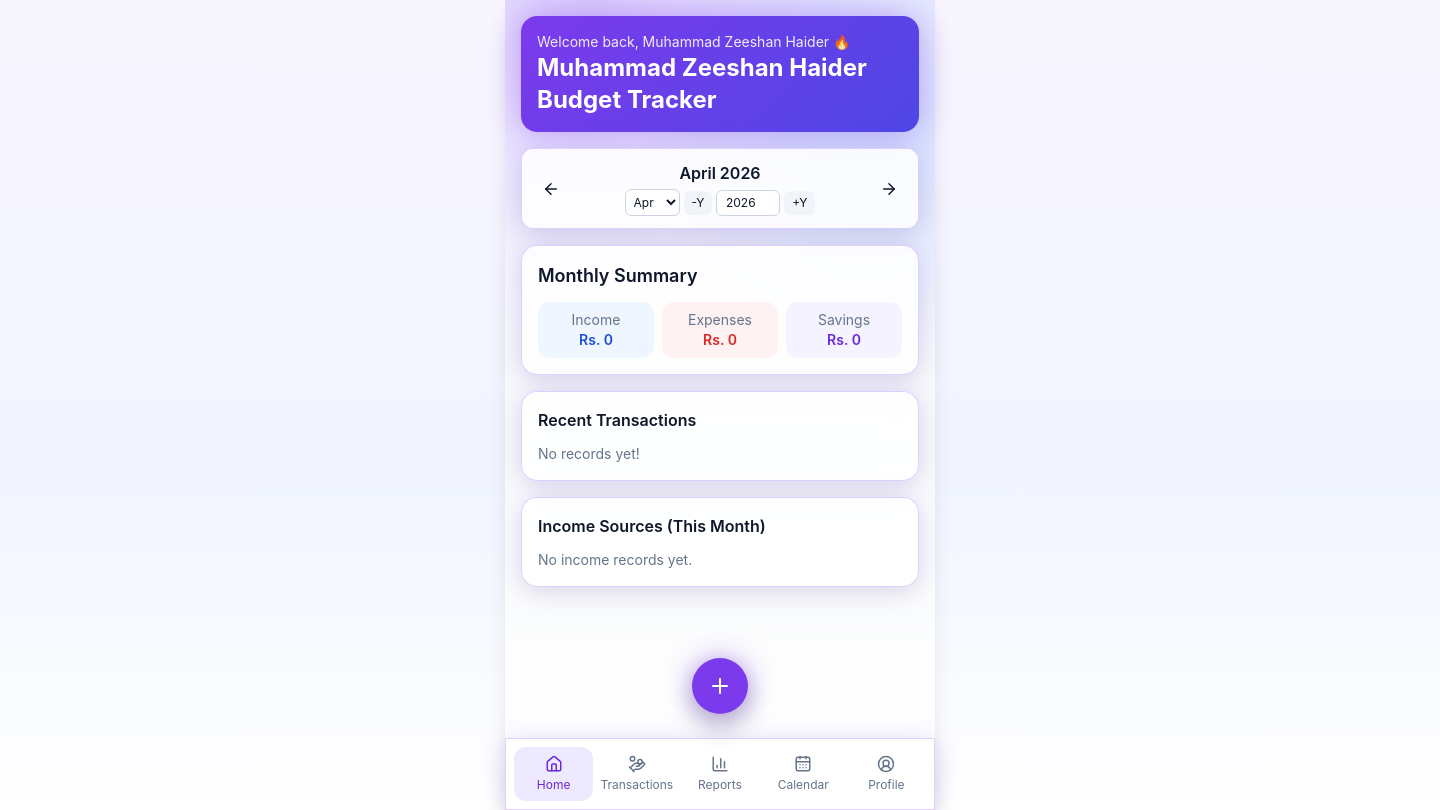
Scenario: Family Budget Tracker › adds a new income transaction from modal
Click the button named "Add transaction" at (720, 686), box [692,658,748,714]
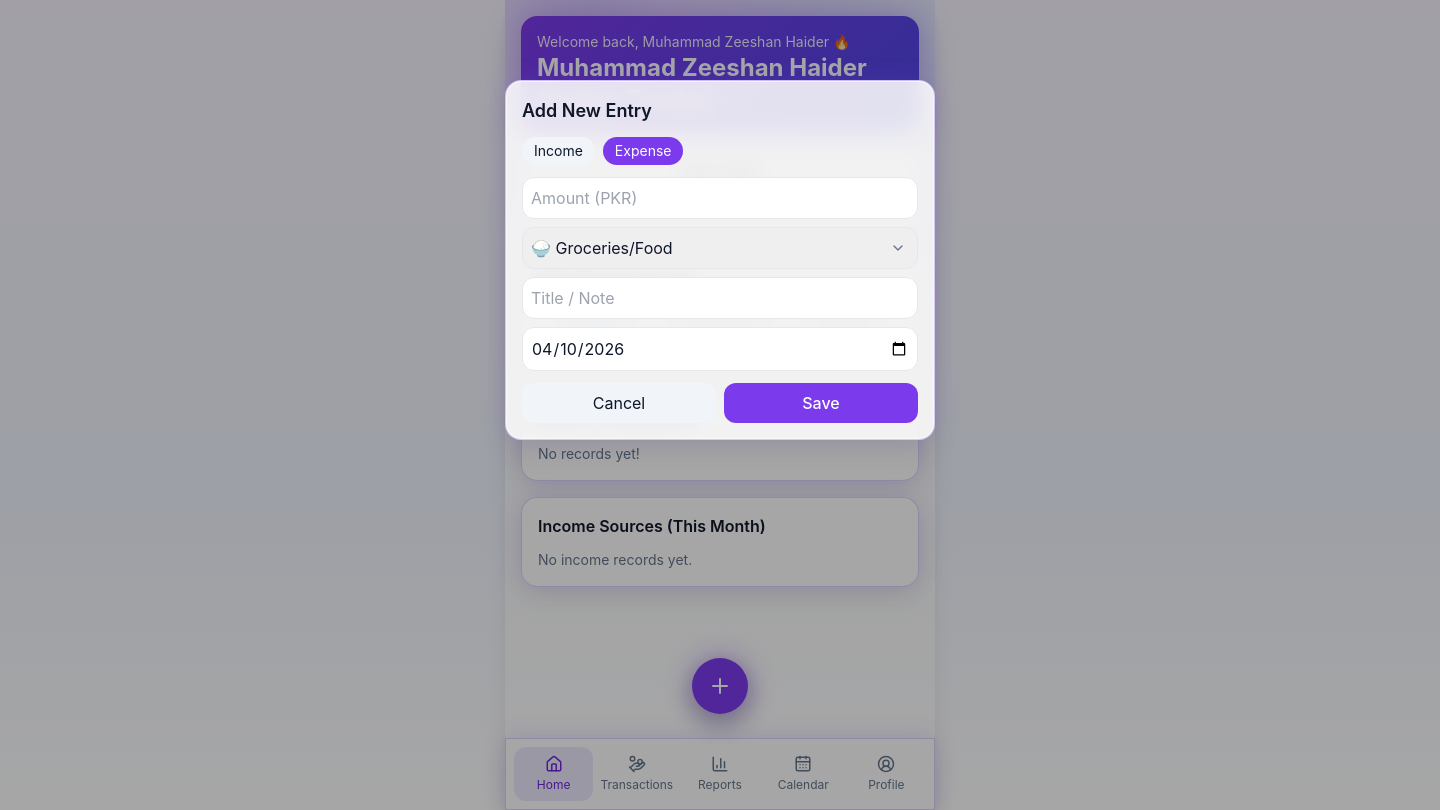
Click the button "Income" at (558, 151), box [522,137,595,165]
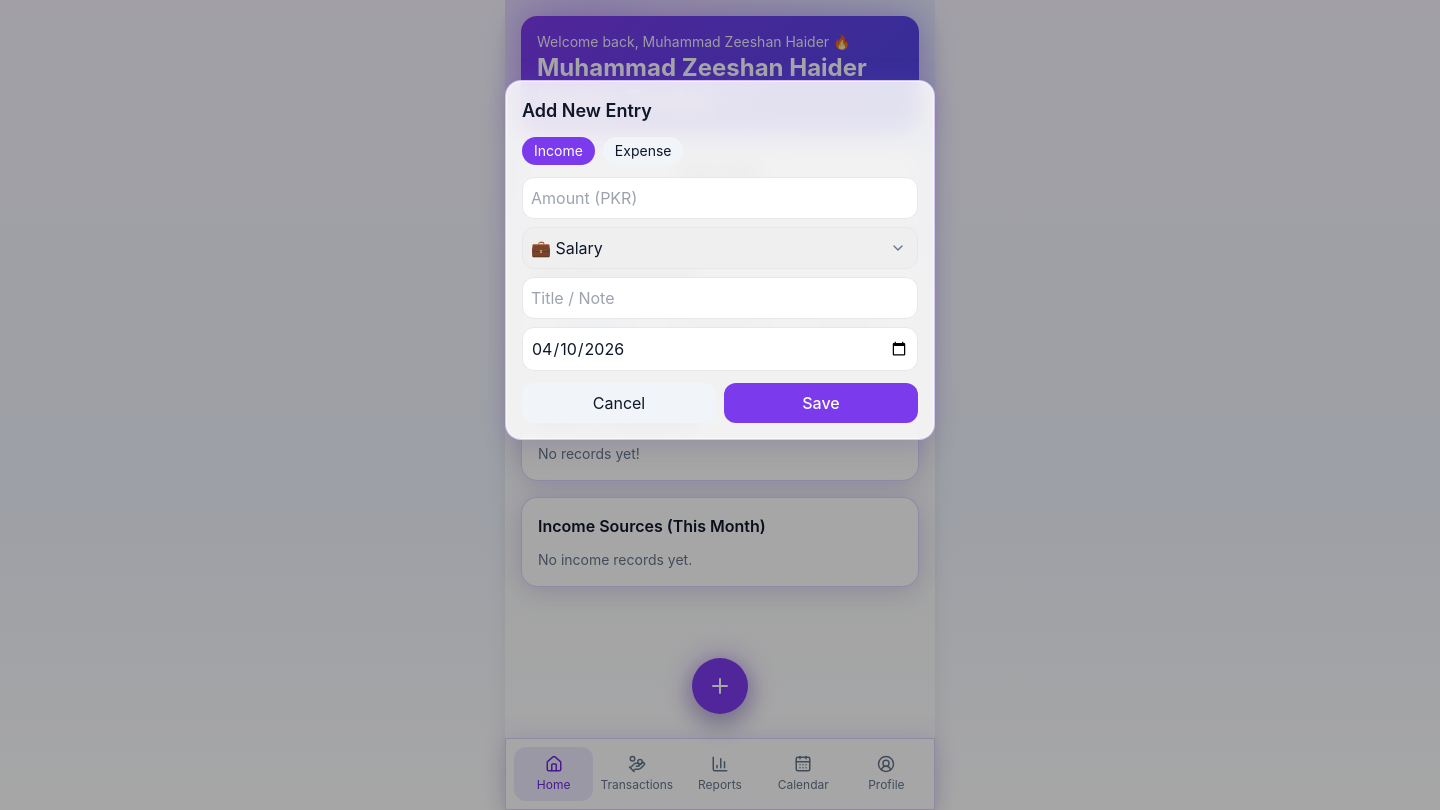
Type "5000" into the number field with placeholder "Amount (PKR)" at (720, 198), box [522,177,918,219]
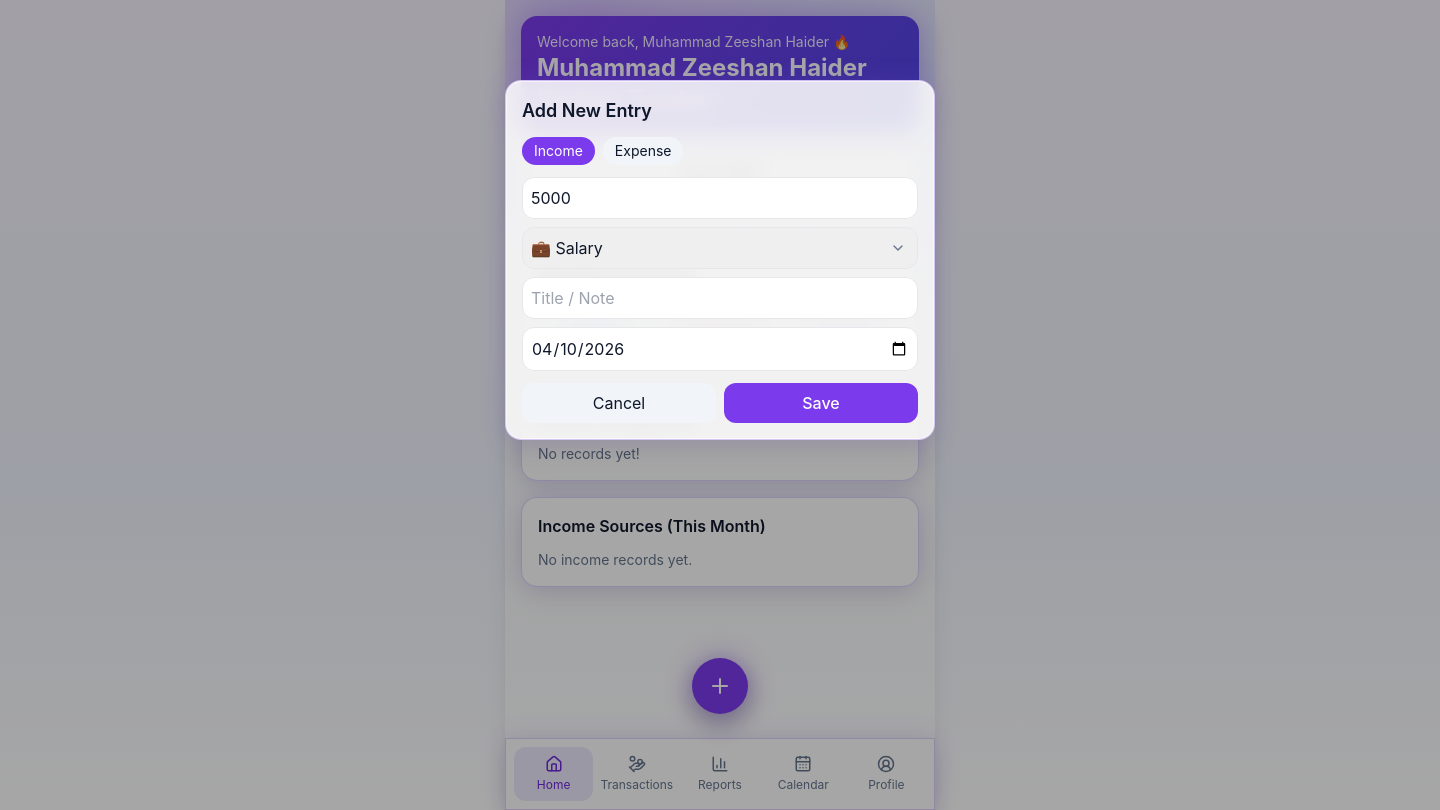
Type "Salary payment" into the field with placeholder "Title / Note" at (720, 298), box [522,277,918,319]
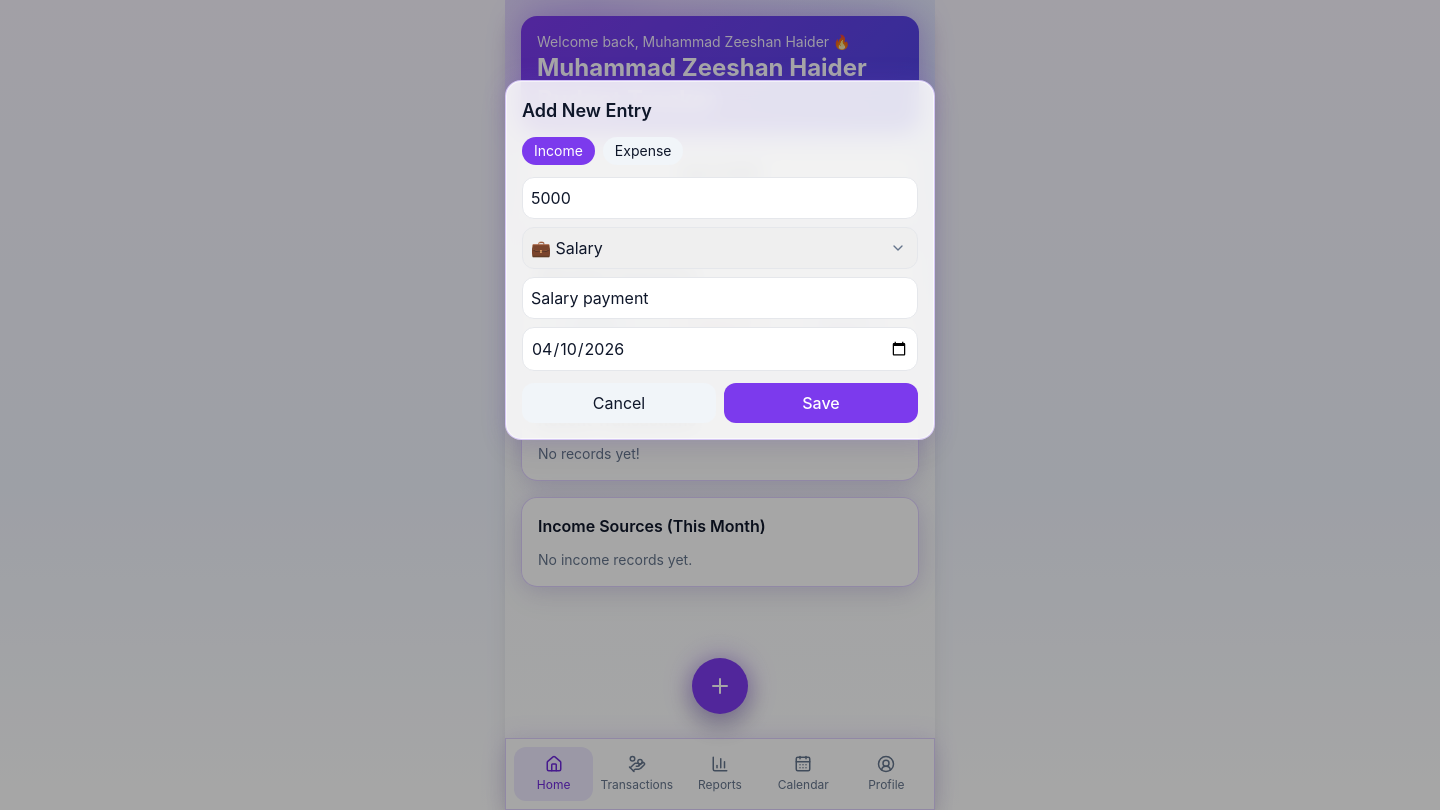
Click the button "Save" at (821, 403), box [724,383,918,423]
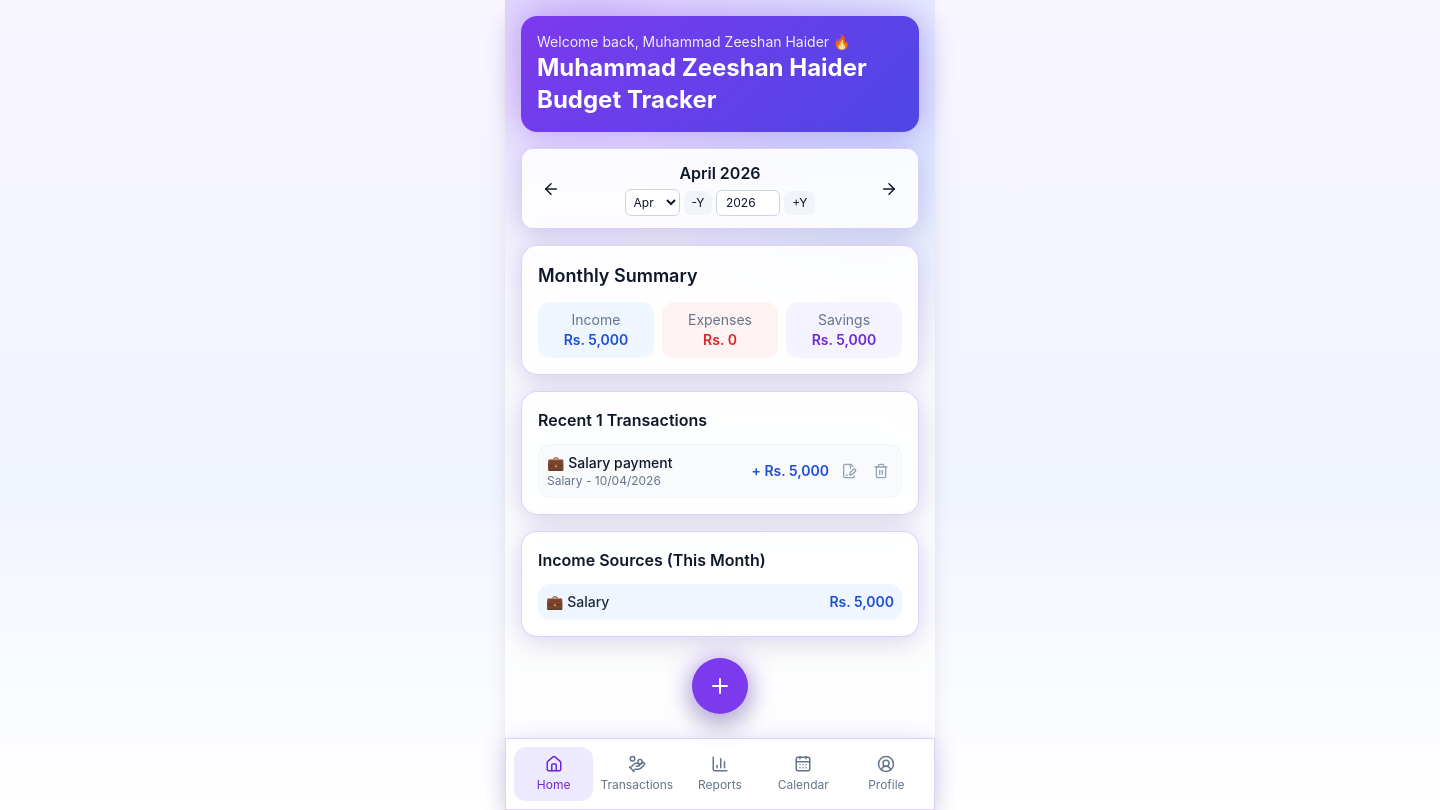
Check: the heading "Recent 1 Transactions" is shown, box [538,410,707,430]
Check: the text "💼 Salary payment" is shown, box [547,453,672,473]
